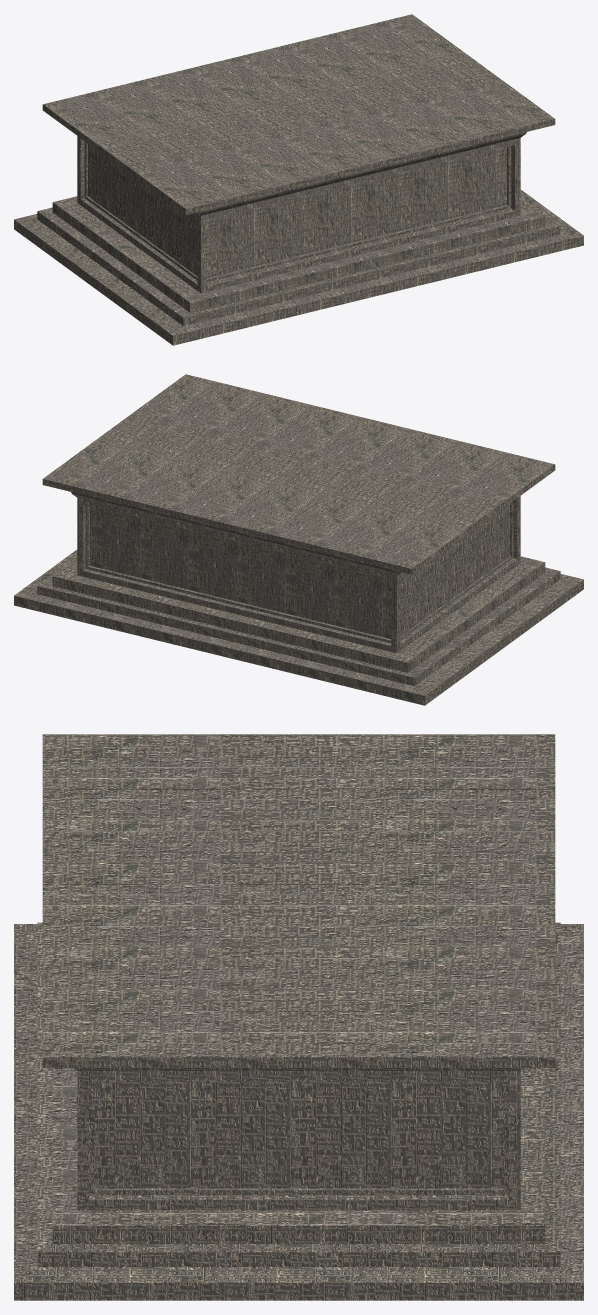
File: Table_Temple.glb
3 views of the same model, one above another, from view 1: azimuth 30°, elevation 25°; view 2: azimuth 150°, elevation 25°; view 3: azimuth 270°, elevation 25° (orthographic). The views are drawn at different scales.
Visible parts, largest first — view 1: temple table.001; view 2: temple table.001; view 3: temple table.001.
Part boxes in pixels (x1,y1,x2,y2): temple table.001: (14, 14, 583, 345); temple table.001: (14, 374, 583, 705); temple table.001: (14, 734, 583, 1300).
Size of the model in its own units: 93.9 by 27.46 by 62.98.
Materials: 1 (1 with a texture image).
